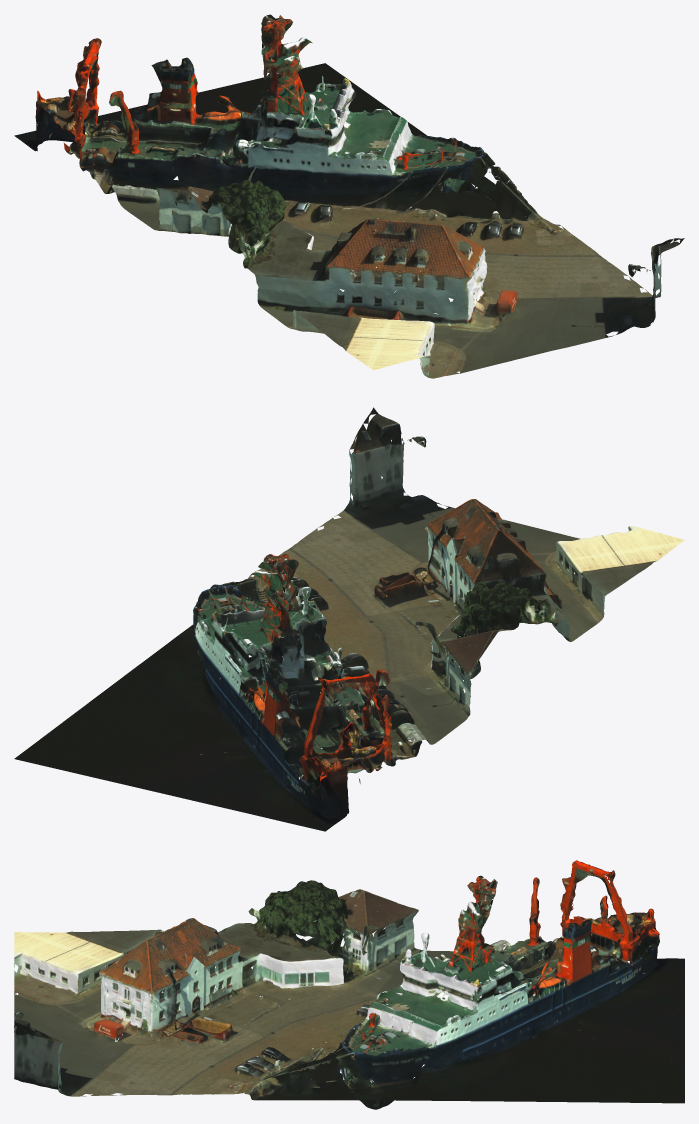
The model's file is patch_pre_comp_draco.glb.
The picture shows the model from 3 angles, top to bottom: view 1: azimuth 30°, elevation 25°; view 2: azimuth 150°, elevation 25°; view 3: azimuth 270°, elevation 25°; orthographic projection. The views are drawn at different scales.
Parts seen in each view (by area): view 1: Test_Patch_2, Test_Patch_1; view 2: Test_Patch_1, Test_Patch_2; view 3: Test_Patch_1, Test_Patch_2.
Part boxes in pixels (bbox=[...]): Test_Patch_2: bbox=[193, 153, 684, 378]; Test_Patch_1: bbox=[14, 14, 497, 247]; Test_Patch_1: bbox=[14, 553, 505, 831]; Test_Patch_2: bbox=[191, 407, 684, 679]; Test_Patch_1: bbox=[341, 860, 684, 1109]; Test_Patch_2: bbox=[14, 880, 355, 1100].
Size of the model in its own units: 49.09 by 27.33 by 98.04.
Materials: 2 (2 with a texture image).
